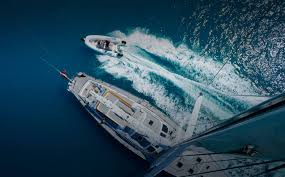boat: (56, 69, 285, 177), (79, 32, 134, 60)
